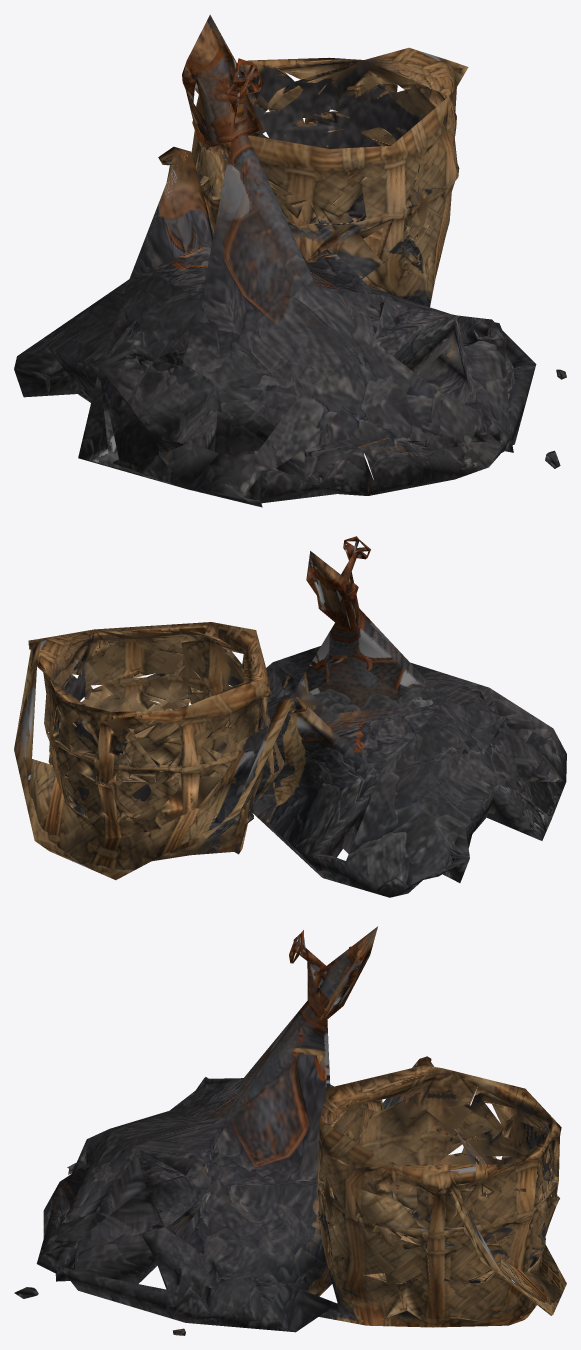
File: PR_CoalPile.fbx
3 renders of one model, top to bottom at view 1: azimuth 30°, elevation 25°; view 2: azimuth 150°, elevation 25°; view 3: azimuth 270°, elevation 25°, orthographic. The views are drawn at different scales.
Visible parts, largest first — view 1: texture_mapping; view 2: texture_mapping; view 3: texture_mapping.
Part boxes in pixels (bbox=[...]): texture_mapping: bbox=[14, 14, 566, 507]; texture_mapping: bbox=[14, 536, 566, 897]; texture_mapping: bbox=[14, 926, 566, 1335].
Bounding box in the file's own units: 0.867 × 0.9338 × 0.586.
Materials: 1 (1 with a texture image).
